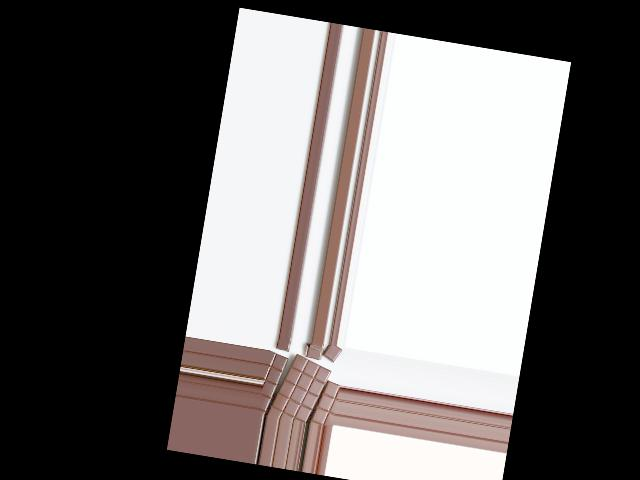chocolate: (268, 352, 334, 425)
